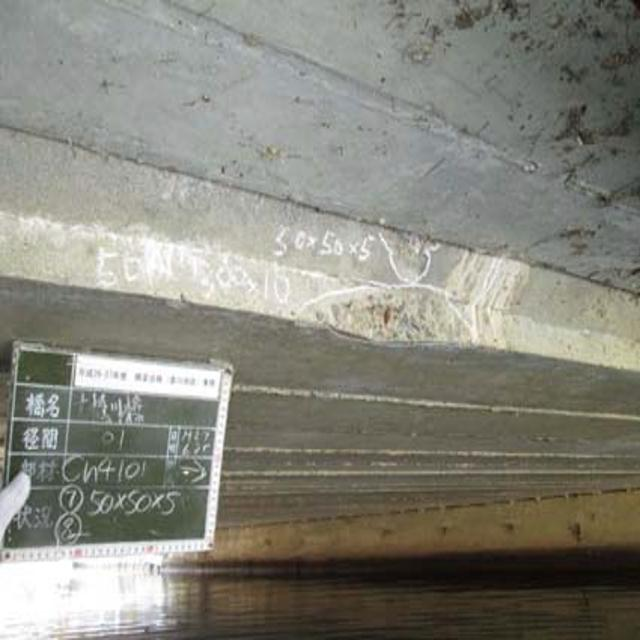spalling: (307, 263, 512, 363)
